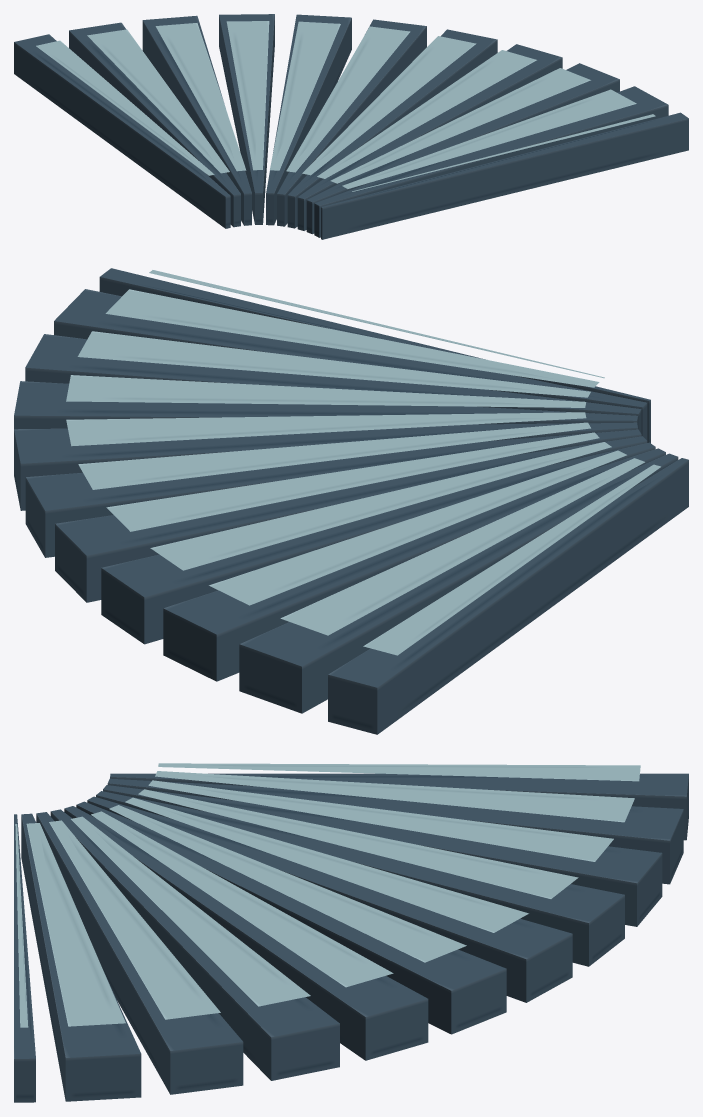
File: sc_tread_curve_left_19.obj
3 views of the same model, one above another, from view 1: azimuth 30°, elevation 25°; view 2: azimuth 150°, elevation 25°; view 3: azimuth 270°, elevation 25° (orthographic). The views are drawn at different scales.
Size of the model in its own units: 17.5 by 1.56 by 17.5.
Materials: 1 (1 with a texture image).
